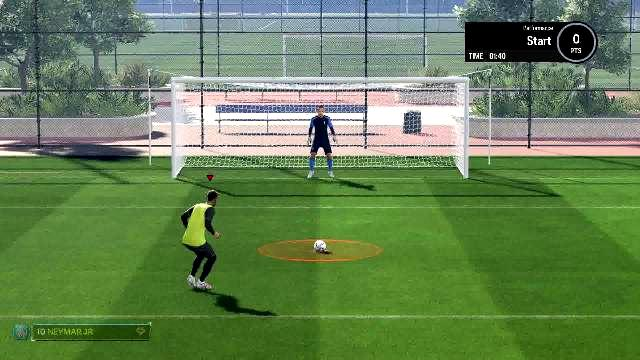bottom-left: (178, 132, 270, 178)
bottom-right: (368, 133, 464, 179)
center-down: (272, 131, 366, 177)
center-up: (273, 82, 369, 130)
circle: (258, 238, 384, 262)
football: (314, 240, 328, 253)
goalkeeper: (304, 105, 344, 179)
player: (178, 186, 228, 296)
top-left: (175, 84, 268, 132)
top-right: (366, 84, 460, 132)
